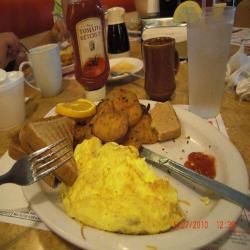bread: (5, 111, 83, 189)
ketchup: (62, 6, 117, 101), (178, 143, 221, 189)
omelette: (58, 139, 188, 238)
